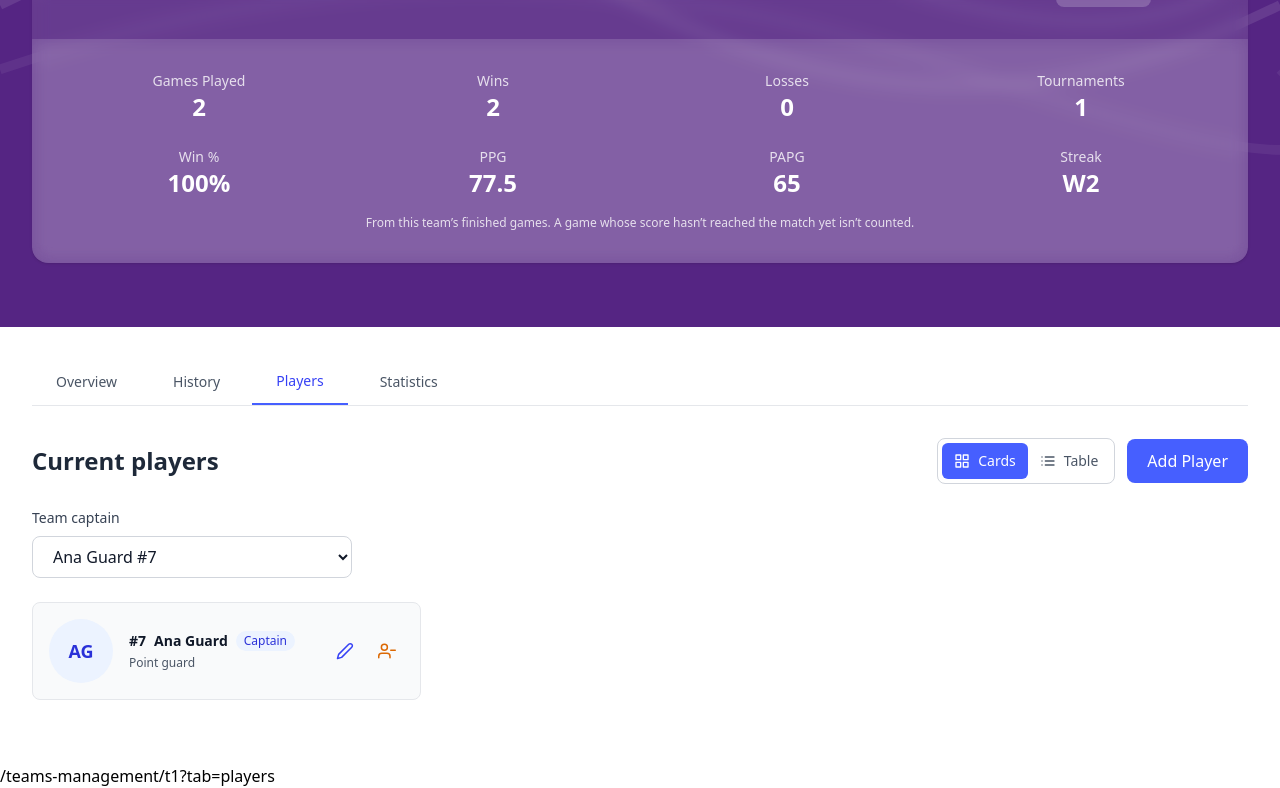
Scenario: TeamDetails: roster › edits a player through the shared player form
(page scrolled)
What coordinates should you click on to do the following:
click the button named "Edit Ana Guard"
I would click on:
 (345, 651)
Its box is top-left (328, 634), bottom-right (362, 668).
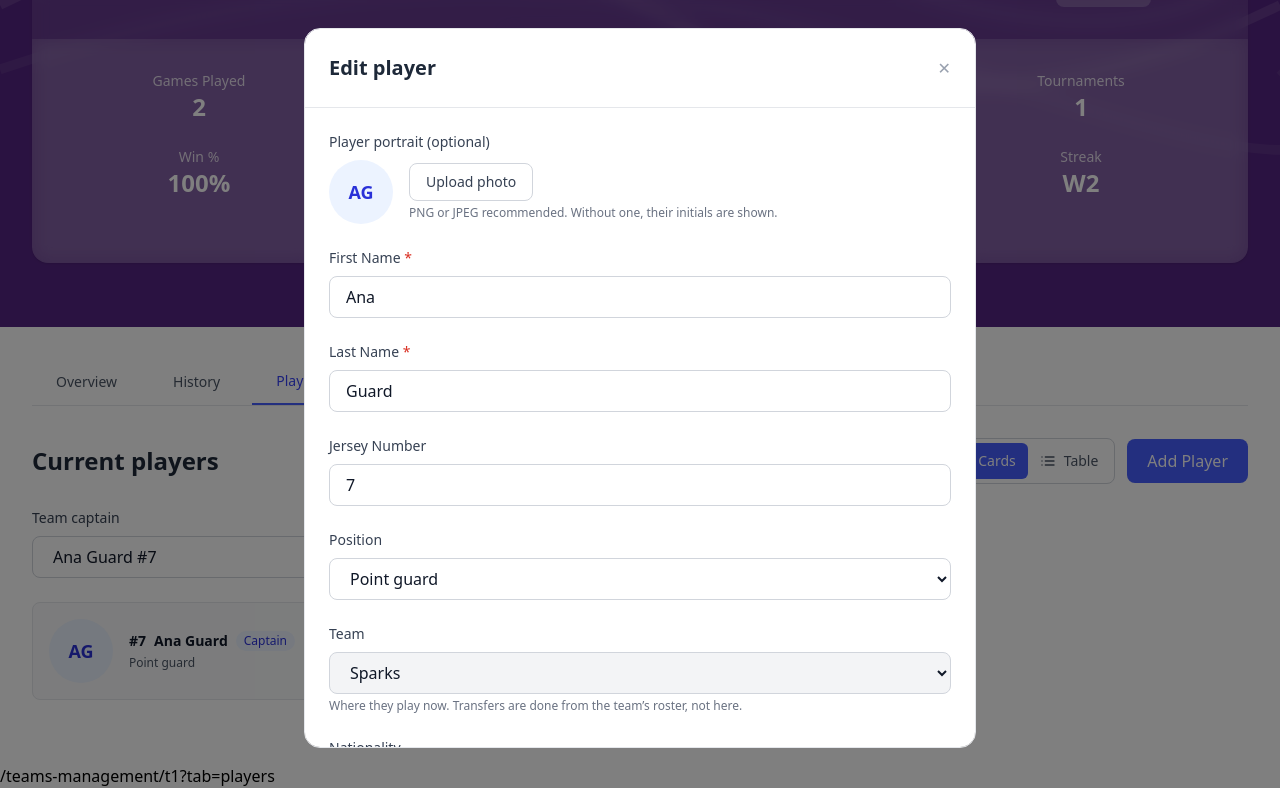
Expected: the dialog "Edit player" is shown, top-left (304, 28), bottom-right (976, 748)
Expected: the field labelled "First Name *" holds "Ana", top-left (329, 276), bottom-right (951, 318)
